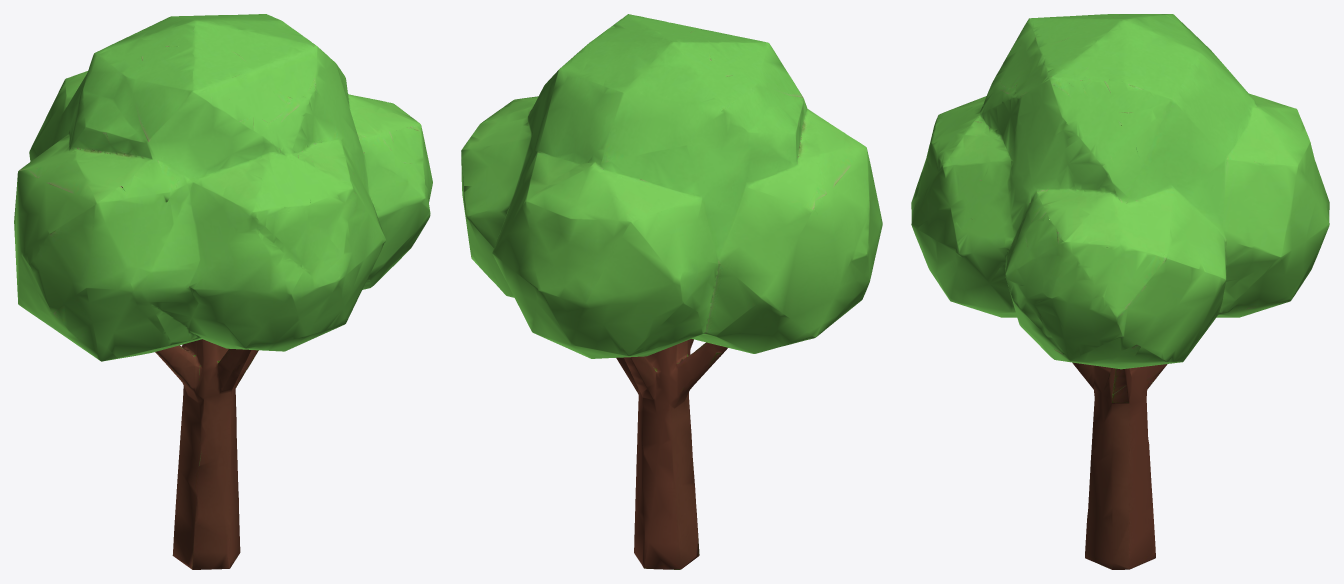
Rendered from tree.glb.
3 views of the same model, side by side, from view 1: azimuth 30°, elevation 25°; view 2: azimuth 150°, elevation 25°; view 3: azimuth 270°, elevation 25° (orthographic). The views are drawn at different scales.
Visible parts, largest first — view 1: Mesh_0; view 2: Mesh_0; view 3: Mesh_0.
Boxes of the visible parts, x1=… form: Mesh_0: x1=14, y1=14, x2=432, y2=569; Mesh_0: x1=461, y1=14, x2=882, y2=569; Mesh_0: x1=911, y1=14, x2=1329, y2=569.
Size of the model in its own units: 1.51 by 1.91 by 1.36.
Materials: 1 (1 with a texture image).
